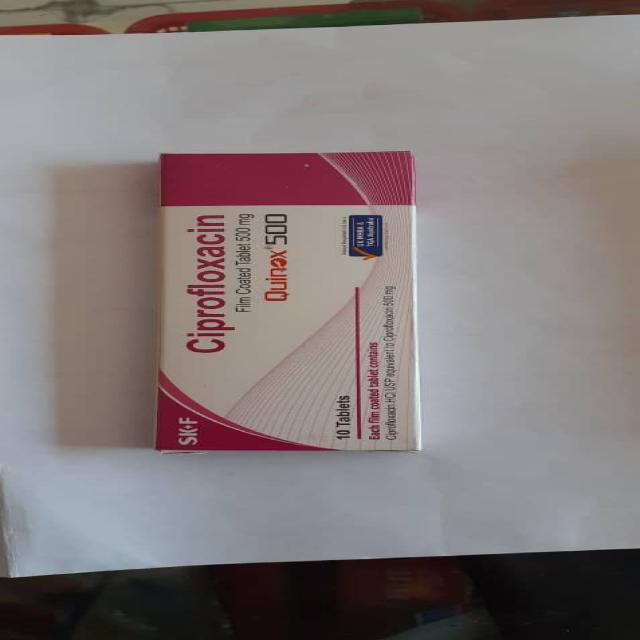drug-name: (260, 210, 290, 306)
